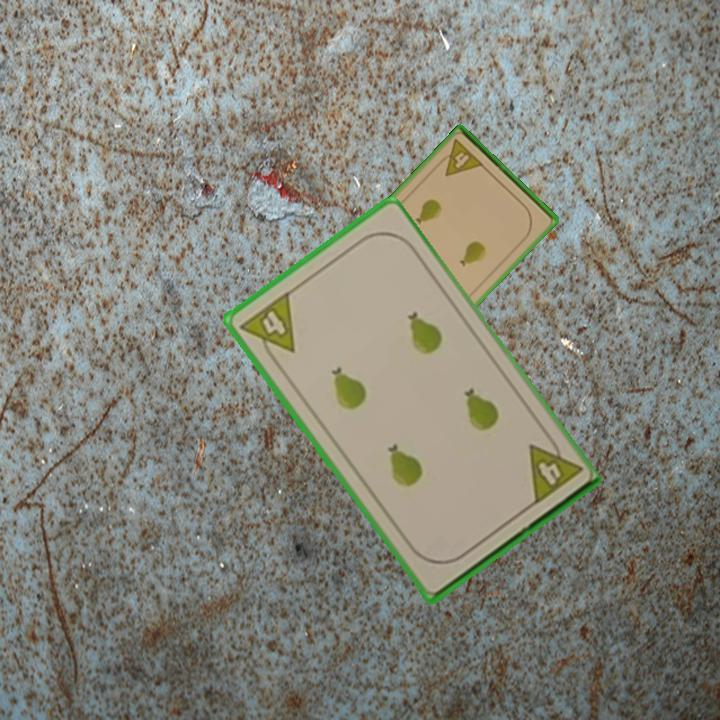4p: (236, 288, 298, 368), (524, 430, 584, 509), (433, 136, 486, 179)
